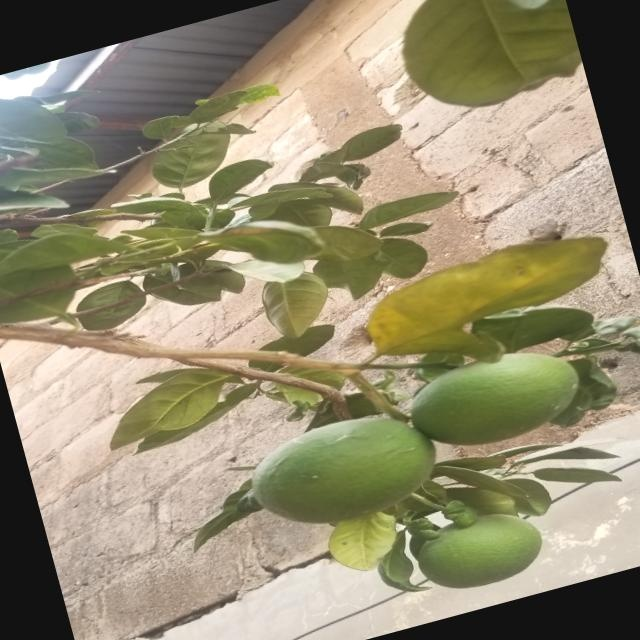agrume: (400, 319, 609, 476), (233, 404, 439, 550), (382, 497, 566, 614)
